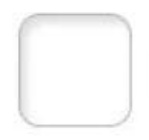CheckBox: (1, 1, 148, 139)
